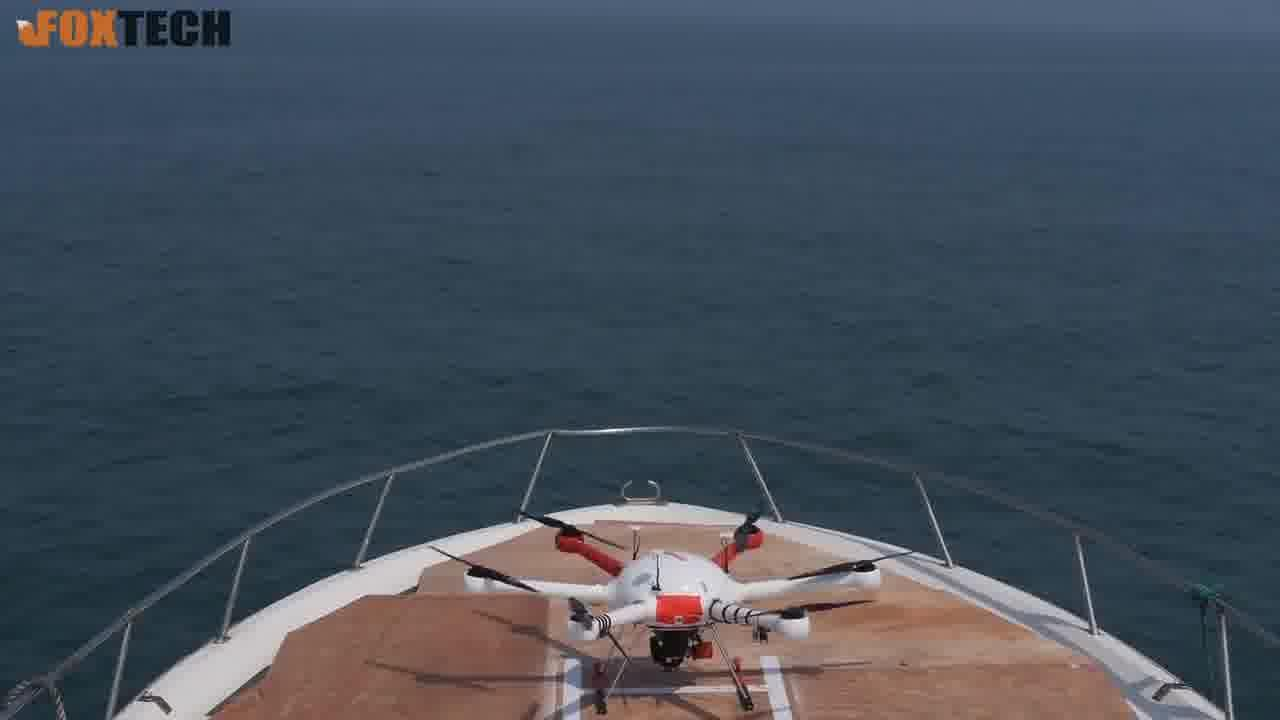drone: (457, 473, 911, 699)
